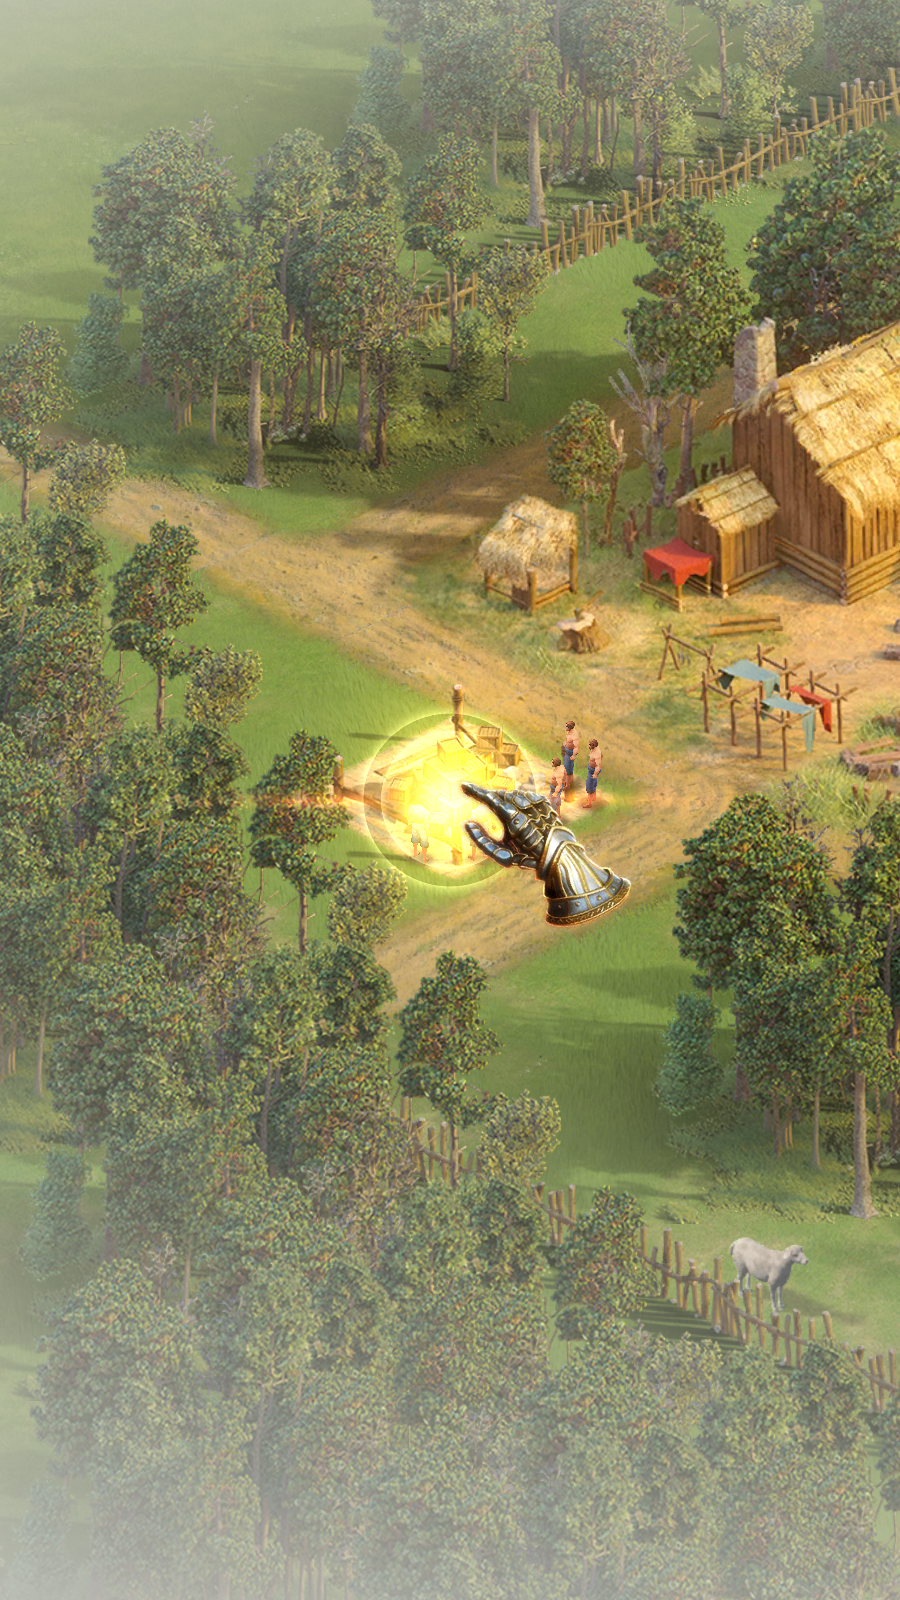hand: (444, 771, 630, 926)
